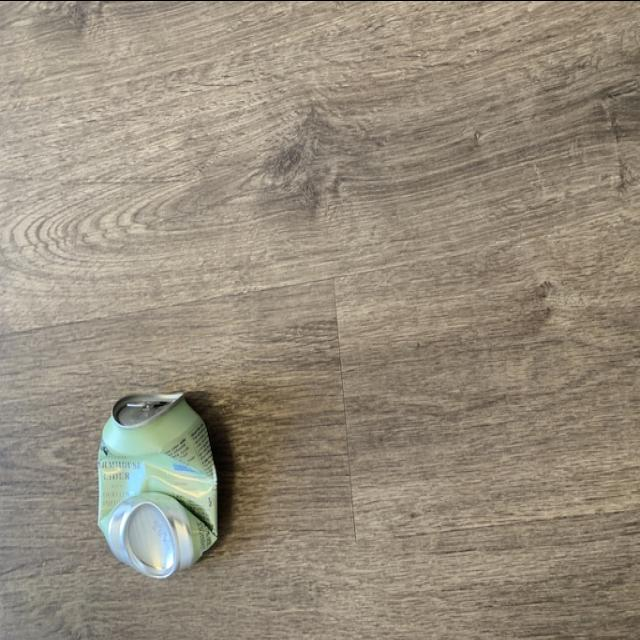litter: (70, 377, 232, 582)
